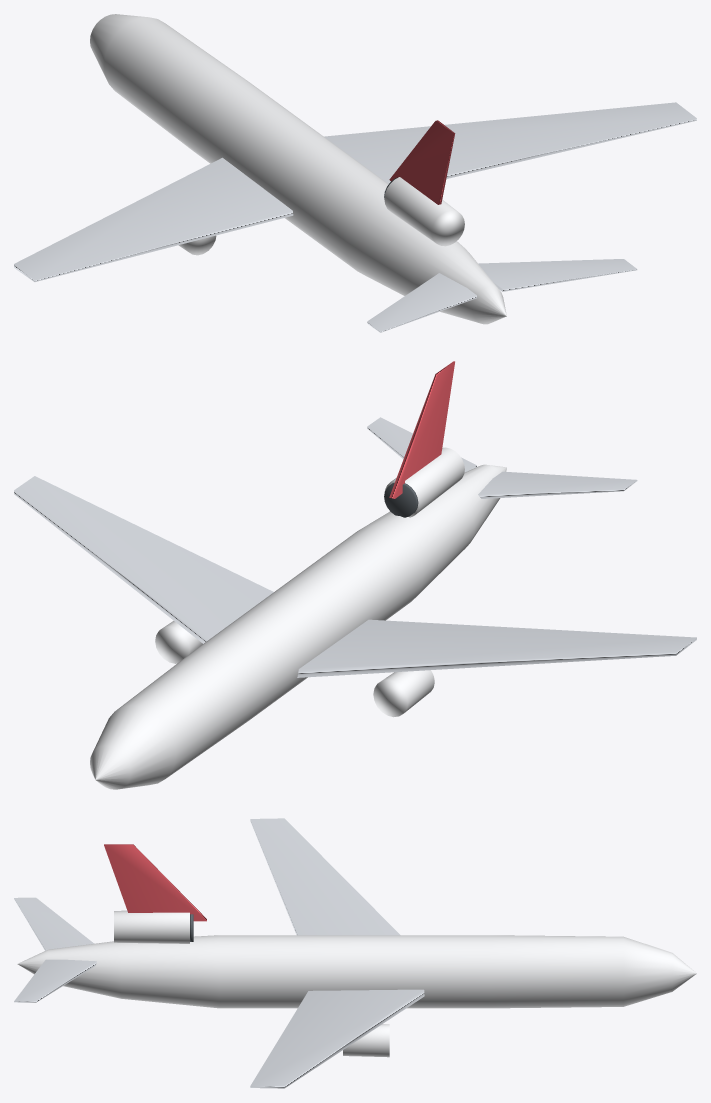
The picture shows the model from 3 angles, top to bottom: view 1: azimuth 30°, elevation 25°; view 2: azimuth 150°, elevation 25°; view 3: azimuth 270°, elevation 25°; orthographic projection. The views are drawn at different scales.
Visible parts, largest first — view 1: Fuselage, Wings, TailSection, TrijetEngines; view 2: Fuselage, Wings, TailSection, TrijetEngines; view 3: Fuselage, Wings, TailSection, TrijetEngines.
Boxes of the visible parts, left/top/right/bottom form: Fuselage: left=90, top=14, right=506, bottom=324; Wings: left=14, top=102, right=696, bottom=281; TailSection: left=367, top=120, right=637, bottom=332; TrijetEngines: left=178, top=177, right=464, bottom=255; Fuselage: left=90, top=464, right=506, bottom=789; Wings: left=14, top=476, right=696, bottom=677; TailSection: left=367, top=361, right=637, bottom=498; TrijetEngines: left=155, top=447, right=464, bottom=717; Fuselage: left=17, top=935, right=696, bottom=1008; Wings: left=250, top=818, right=424, bottom=1088; TailSection: left=14, top=844, right=206, bottom=1002; TrijetEngines: left=114, top=910, right=389, bottom=1057.
Size of the model in its own units: 51.6 by 15.03 by 55.78.
